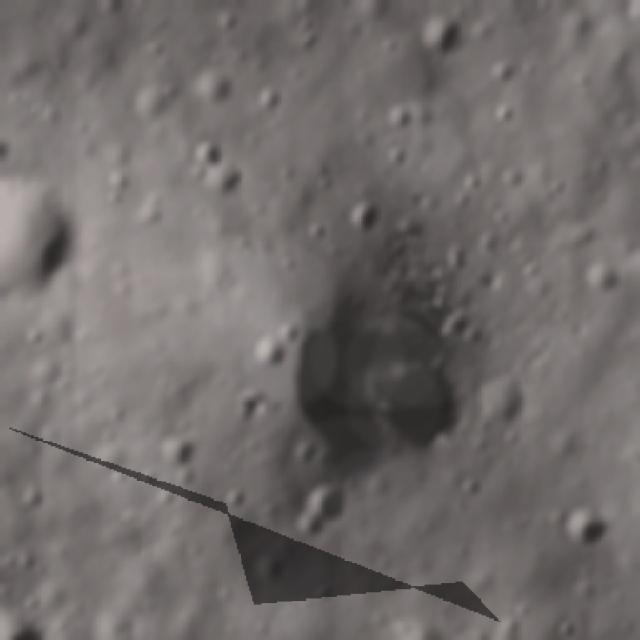crater: (355, 354, 474, 461), (286, 480, 352, 538), (557, 500, 612, 546), (0, 592, 48, 640), (417, 7, 463, 56), (187, 64, 235, 108), (149, 431, 197, 464), (578, 258, 622, 293), (247, 332, 288, 368), (248, 547, 284, 584), (378, 98, 417, 130), (346, 201, 380, 234), (484, 55, 519, 87), (544, 611, 582, 640), (131, 190, 164, 222), (252, 81, 280, 117), (188, 138, 226, 160), (219, 484, 247, 513), (310, 577, 338, 605), (16, 478, 41, 509), (291, 30, 326, 52), (101, 170, 128, 198), (452, 172, 481, 196), (374, 32, 400, 58), (497, 164, 525, 188), (377, 145, 408, 166), (105, 397, 127, 426), (316, 165, 336, 193), (486, 100, 516, 118), (157, 81, 177, 108), (494, 614, 521, 634), (216, 7, 236, 33), (304, 218, 328, 238), (104, 463, 125, 485), (187, 160, 207, 182), (50, 49, 65, 76), (624, 0, 640, 24), (29, 98, 48, 118), (22, 326, 42, 343), (5, 87, 23, 105), (608, 585, 626, 603), (292, 14, 317, 26)
